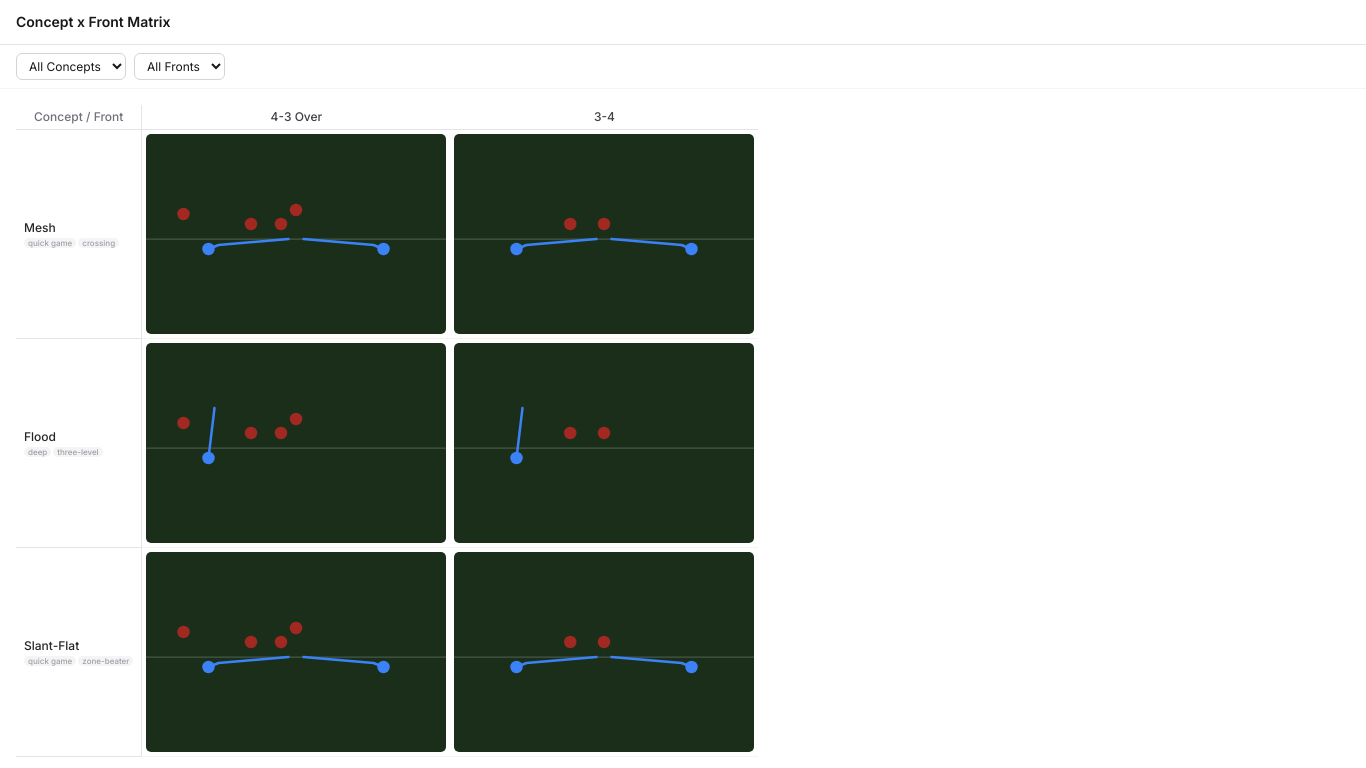
ConceptFrontMatrix › filters fronts by specific front
Step 1. Select "3-4" in the dropdown with test id "front-filter" → (180, 66), box [134,53,225,80]
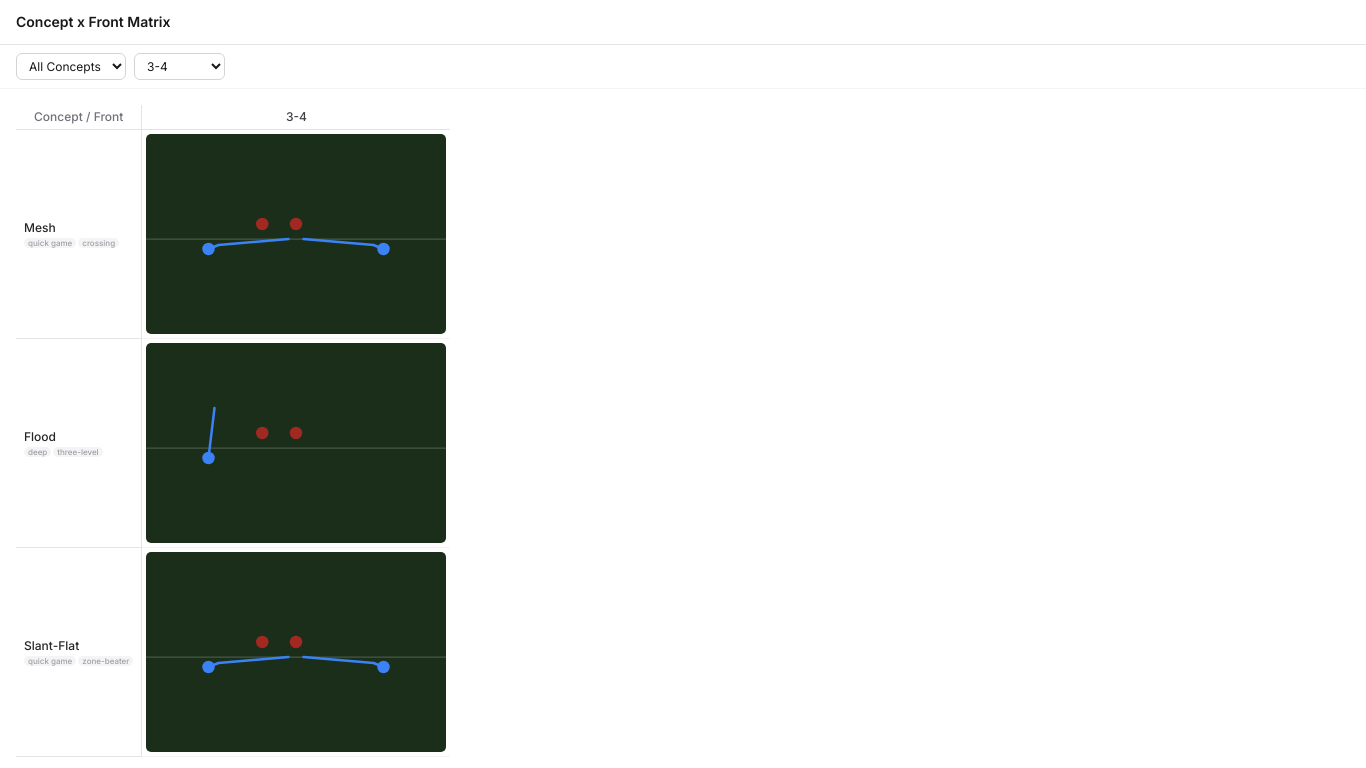
Expected: the column heading with test id "front-header-front-34" is shown, [142,105,450,130]
Now the column heading with test id "front-header-front-43-over" is gone
